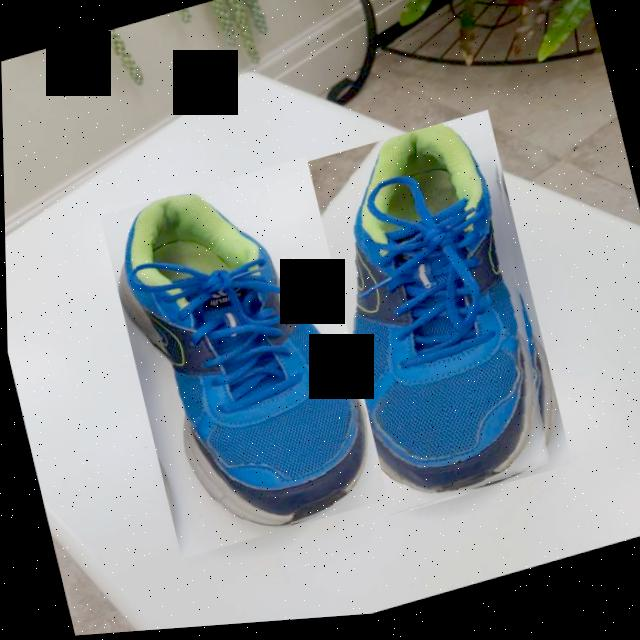shoe: (98, 157, 386, 566), (303, 113, 570, 527)
